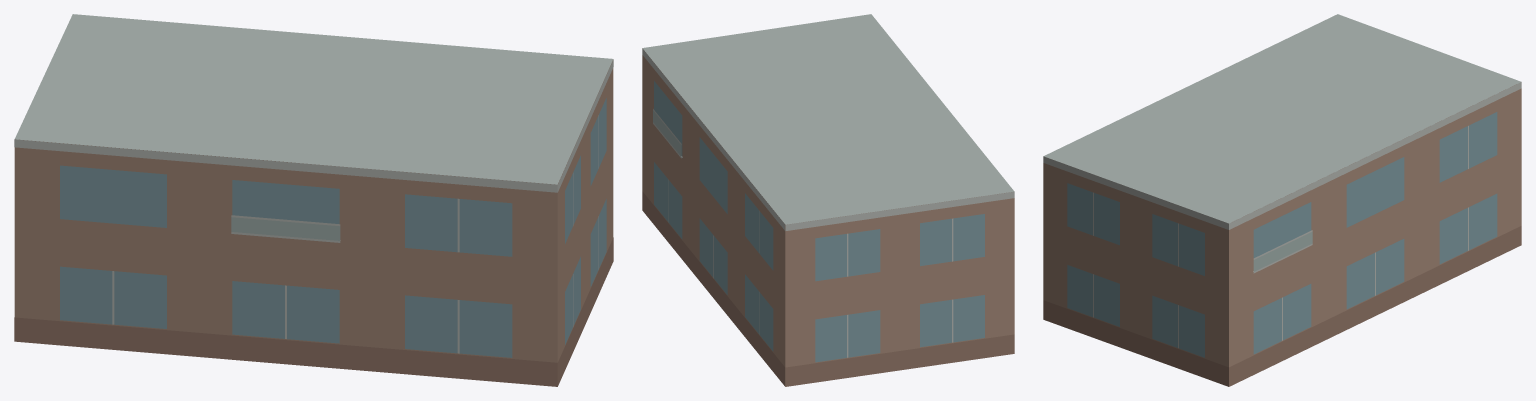
The model's file is survey-upis-32808897.glb.
3 views of the same model, side by side, from view 1: azimuth 30°, elevation 25°; view 2: azimuth 150°, elevation 25°; view 3: azimuth 270°, elevation 25° (orthographic). The views are drawn at different scales.
Parts seen in each view (by area): view 1: survey-upis-32808897.tmp; view 2: survey-upis-32808897.tmp; view 3: survey-upis-32808897.tmp.
Part boxes in pixels (box(x1,y1,x2,y2)): survey-upis-32808897.tmp: box(14, 14, 613, 386); survey-upis-32808897.tmp: box(642, 14, 1014, 386); survey-upis-32808897.tmp: box(1043, 14, 1521, 386).
Size of the model in its own units: 16.79 by 6.1 by 16.19.
